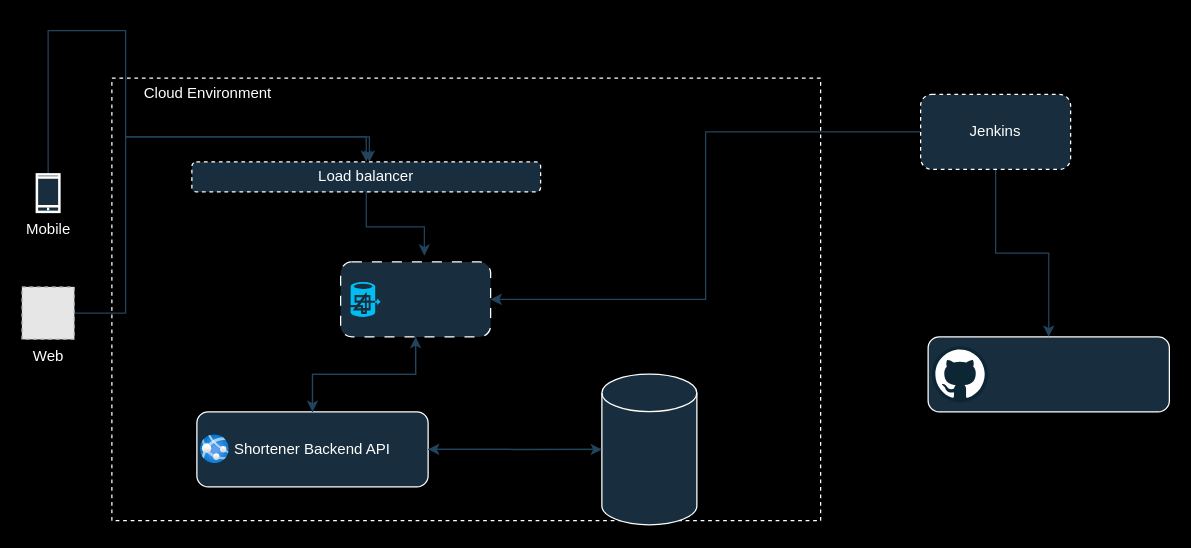
Some shapes in this 1191 by 548 pixel diagram are drawn without their labels. Grey dashed boxes stand in for pictures. Each missing label, with the box of its shape:
GitHub Repository: (927, 336, 1169, 412)
H2 Database: (601, 373, 697, 525)
Hosting: (339, 261, 491, 337)
